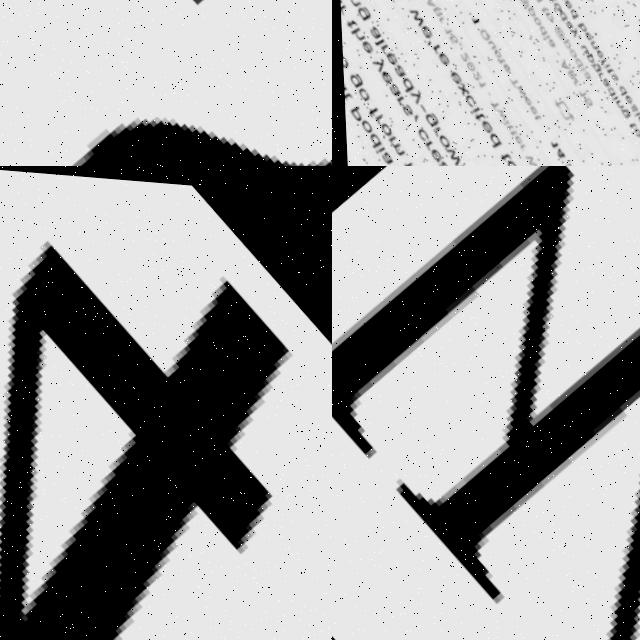0: (460, 55, 474, 70)
1: (465, 10, 478, 23), (472, 73, 483, 85), (544, 133, 555, 145), (439, 22, 450, 33), (573, 82, 583, 93)
2: (454, 46, 468, 60), (467, 66, 480, 79)
4: (549, 141, 564, 158)
5: (442, 28, 458, 45), (577, 89, 591, 103)
S: (0, 0, 332, 166)
W: (332, 166, 640, 640)
